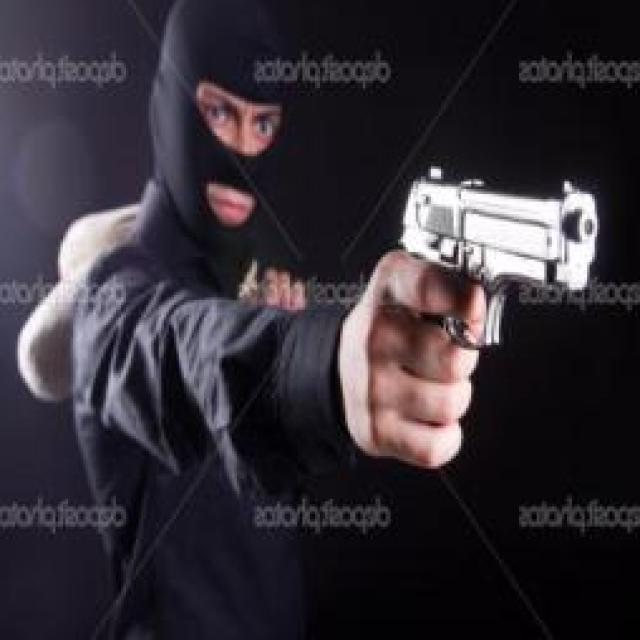pistol: (386, 144, 604, 418)
